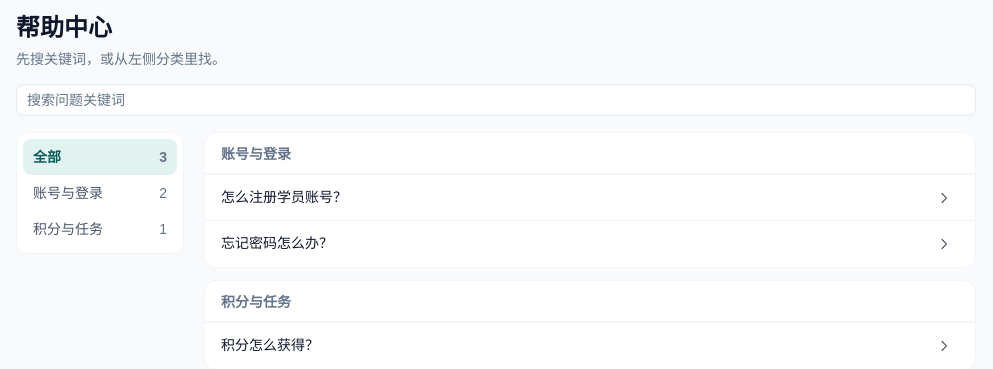
Test: 帮助中心 端上搜索（#1079） › 关键词命中答案文本也算命中
The image size is (993, 369).
Step 1. Type "验证码" into the field with placeholder "搜索问题关键词" → {"x": 496, "y": 100}, box [27, 85, 965, 115]
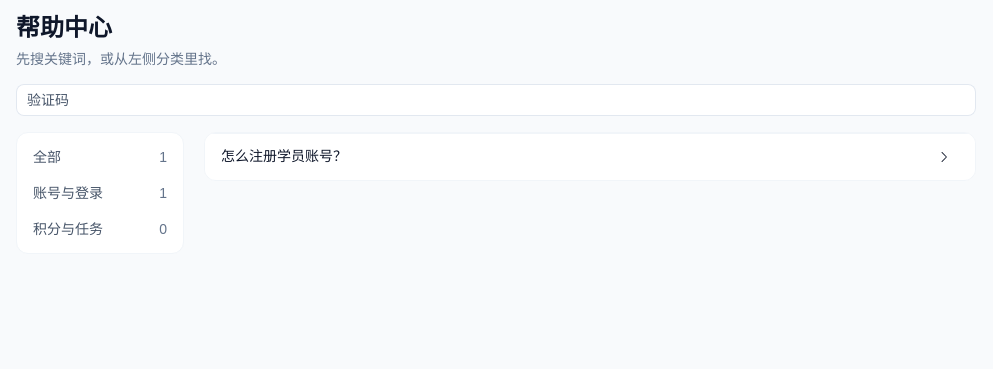
Expected: the text "怎么注册学员账号？" is shown, [205, 134, 975, 180]
Result: the text "积分怎么获得？" is gone
